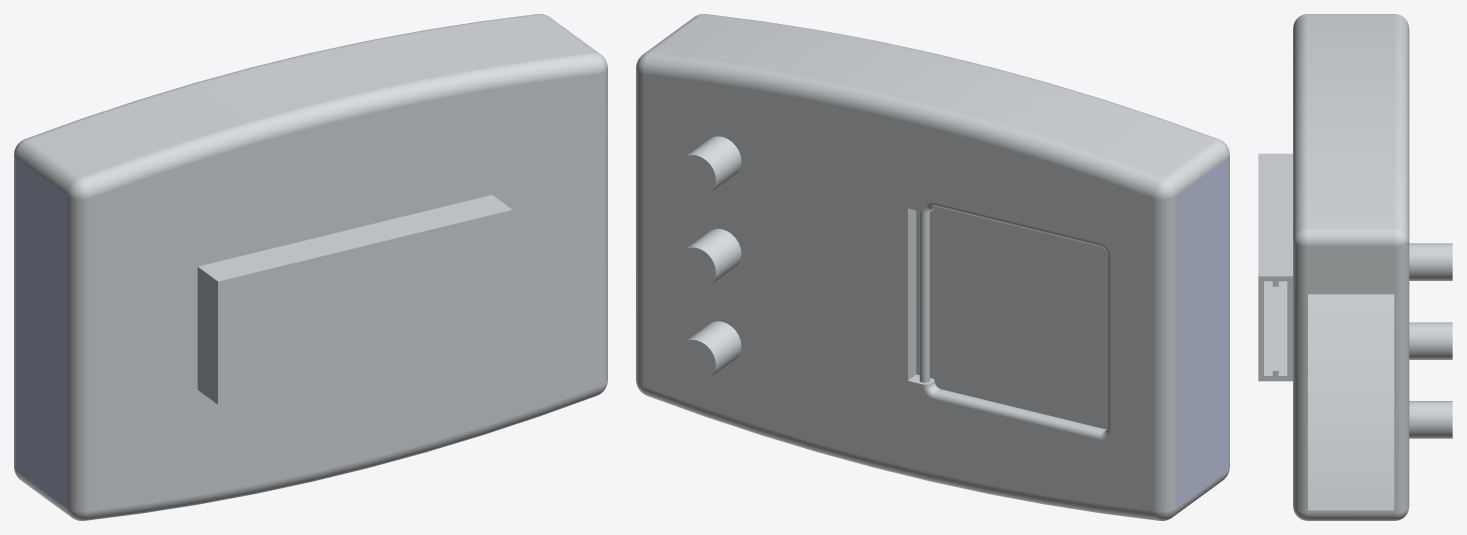
3 views of the same model, side by side, from view 1: azimuth 30°, elevation 25°; view 2: azimuth 150°, elevation 25°; view 3: azimuth 270°, elevation 25° (orthographic). The views are drawn at different scales.
Parts seen in each view (by area): view 1: _3DGeom-81, _3DGeom-82; view 2: _3DGeom-81, _3DGeom-82; view 3: _3DGeom-81.
Part boxes in pixels (bbox=[...]): _3DGeom-81: bbox=[14, 14, 607, 520]; _3DGeom-82: bbox=[16, 159, 67, 507]; _3DGeom-81: bbox=[636, 14, 1229, 520]; _3DGeom-82: bbox=[1176, 159, 1227, 507]; _3DGeom-81: bbox=[1258, 14, 1452, 520].
Size of the model in its own units: 0.9144 by 0.335 by 0.6089.
